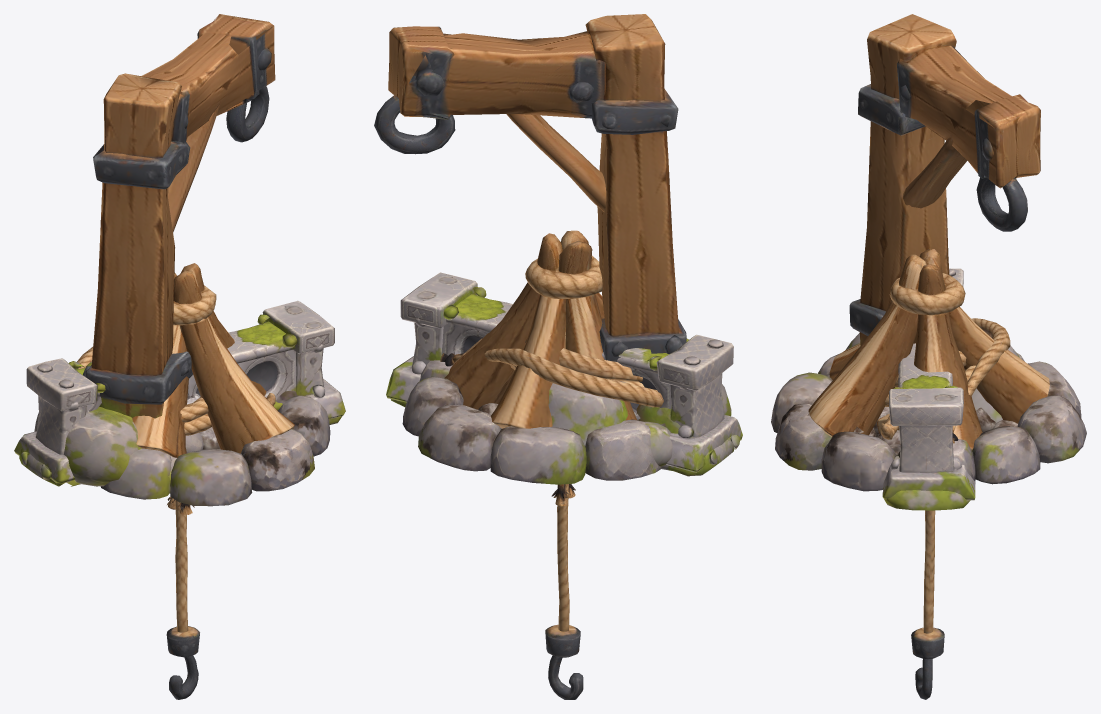
The model's file is fuego_rustic.glb.
3 renders of one model, left to right at view 1: azimuth 30°, elevation 25°; view 2: azimuth 150°, elevation 25°; view 3: azimuth 270°, elevation 25°, orthographic. The views are drawn at different scales.
Parts seen in each view (by area): view 1: cuerda_poste, contador_placa, fogata_apagada, fogata_lenos, cuerda_tensa, cuerda_caida; view 2: cuerda_poste, contador_placa, fogata_lenos, fogata_apagada, cuerda_caida, cuerda_tensa; view 3: cuerda_poste, fogata_lenos, fogata_apagada, contador_placa, cuerda_tensa, cuerda_caida.
Boxes of the visible parts, x1,y1,x2,y2 form: cuerda_poste: (63, 14, 275, 486); contador_placa: (14, 300, 345, 486); fogata_apagada: (34, 390, 330, 506); fogata_lenos: (132, 263, 294, 457); cuerda_tensa: (166, 500, 199, 699); cuerda_caida: (77, 346, 275, 435); cuerda_poste: (374, 14, 731, 466); contador_placa: (386, 272, 742, 476); fogata_lenos: (444, 230, 636, 428); fogata_apagada: (402, 360, 666, 484); cuerda_caida: (440, 338, 663, 407); cuerda_tensa: (545, 484, 583, 699); cuerda_poste: (827, 14, 1040, 422); fogata_lenos: (808, 249, 1049, 450); fogata_apagada: (771, 352, 1086, 491); contador_placa: (882, 268, 975, 510); cuerda_tensa: (911, 510, 944, 699); cuerda_caida: (880, 318, 1010, 443).
Size of the model in its own units: 1.6 by 3.2 by 1.42.
Materials: 1 (1 with a texture image).
